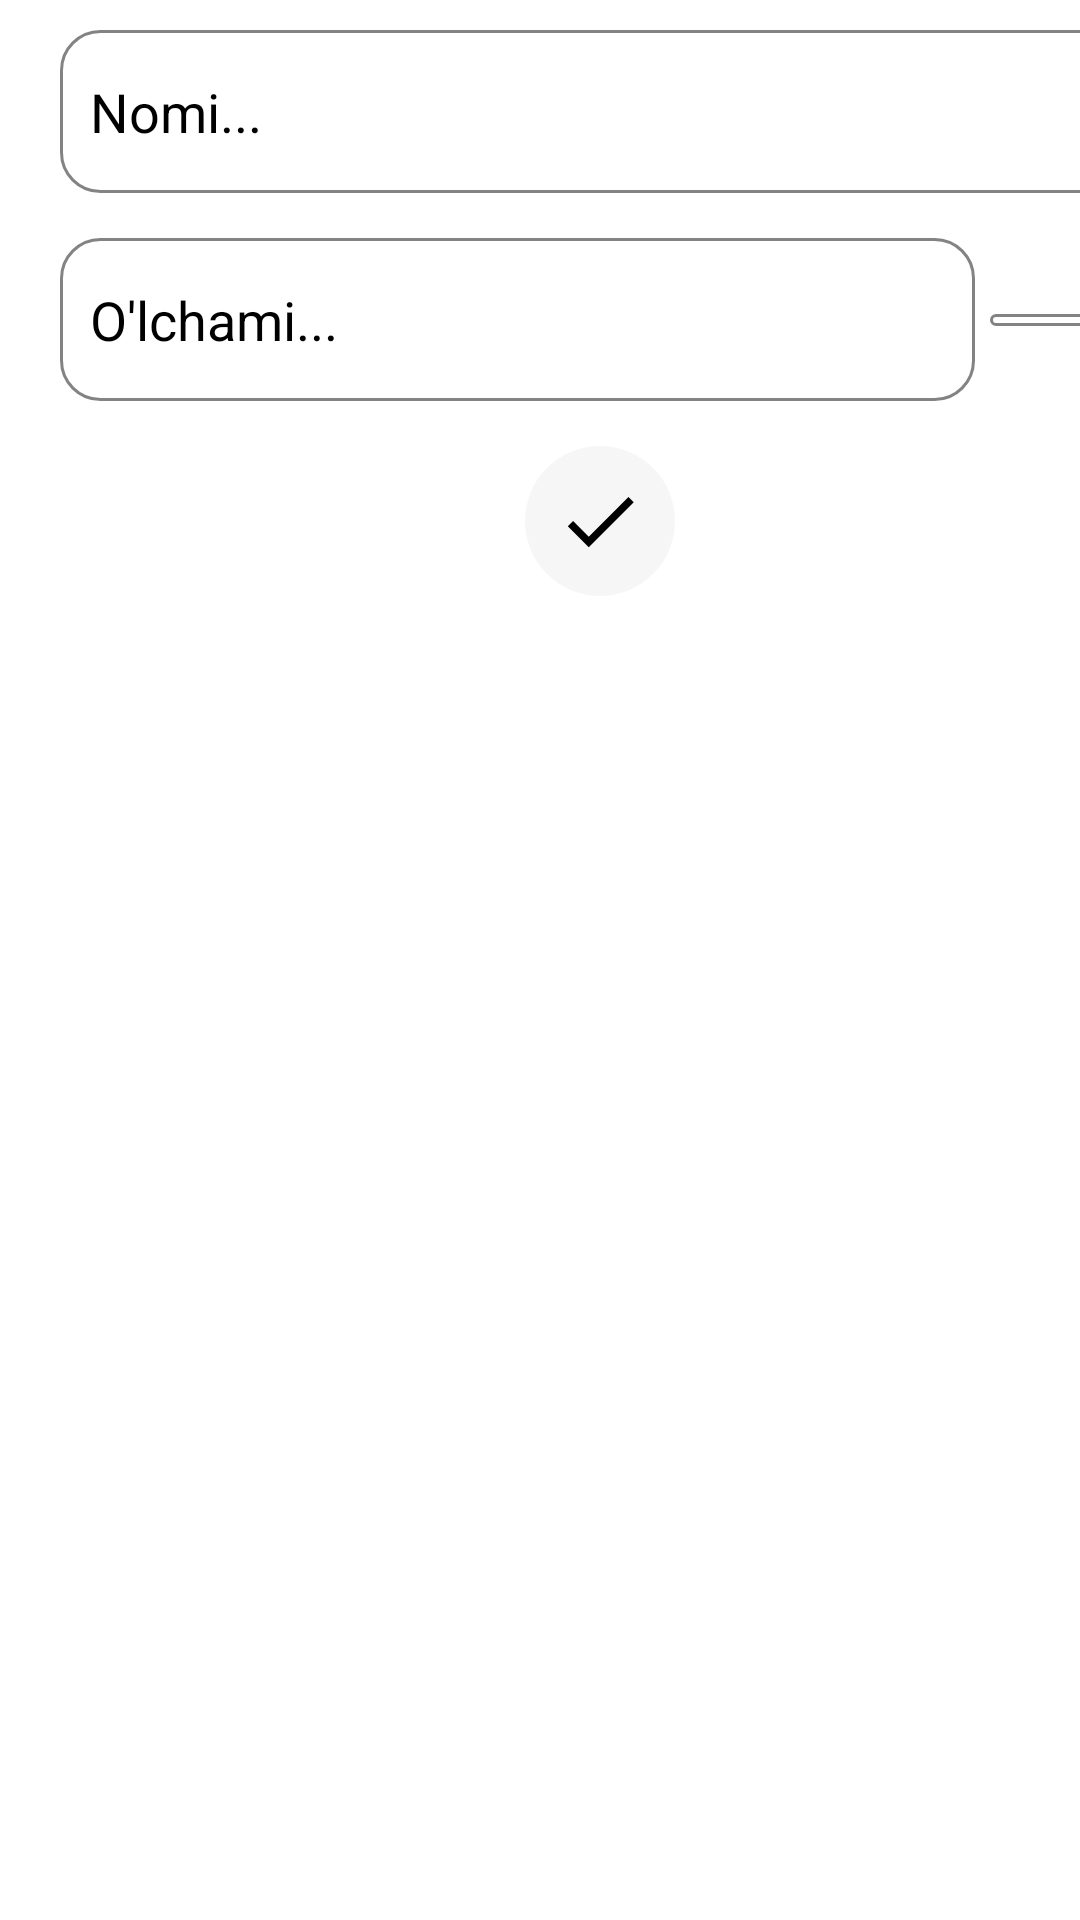

Icon click points for this 1080 × 1920 phone screenshot, format [x,y]:
check: [600,521]
